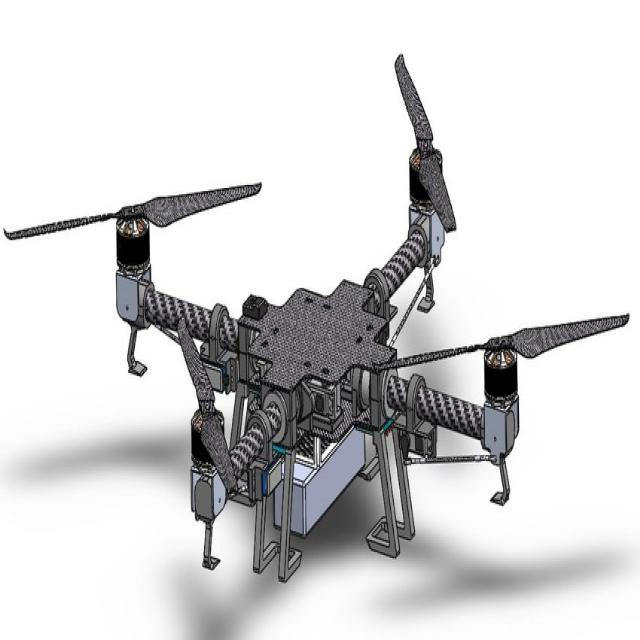drone: (54, 79, 588, 621)
